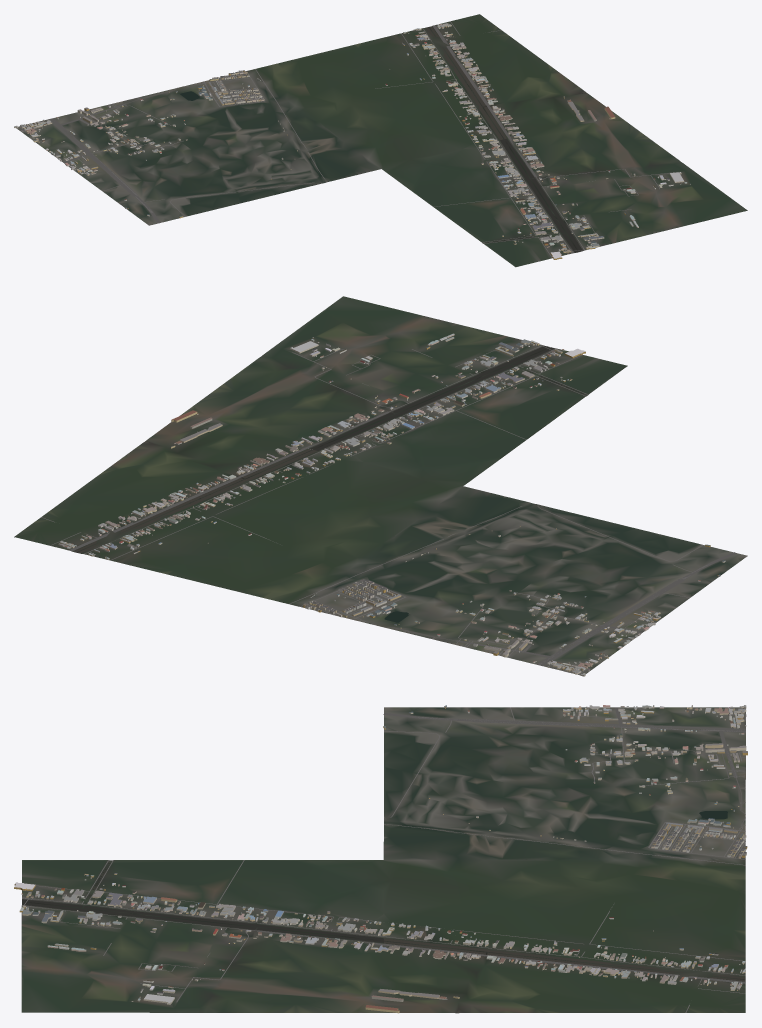
The picture shows the model from 3 angles, top to bottom: view 1: azimuth 30°, elevation 25°; view 2: azimuth 150°, elevation 25°; view 3: azimuth 270°, elevation 25°; orthographic projection. The views are drawn at different scales.
Parts seen in each view (by area): view 1: ground, buildings, roads, water; view 2: ground, buildings, roads, water; view 3: ground, buildings, roads, water.
Part boxes in pixels (box(x1,y1,x2,y2)): ground: box(17, 14, 747, 267); buildings: box(14, 23, 690, 259); roads: box(19, 21, 674, 258); water: box(180, 26, 582, 252); ground: box(14, 296, 747, 675); buildings: box(58, 333, 725, 676); roads: box(41, 345, 736, 674); water: box(74, 346, 582, 622); ground: box(21, 707, 745, 1013); buildings: box(14, 705, 747, 1013); roads: box(21, 707, 746, 1012); water: box(22, 811, 745, 1010).
Bounding box in the file's own units: 2808 × 18.38 × 2840.
